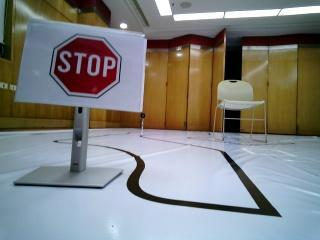stop: (29, 24, 139, 105)
